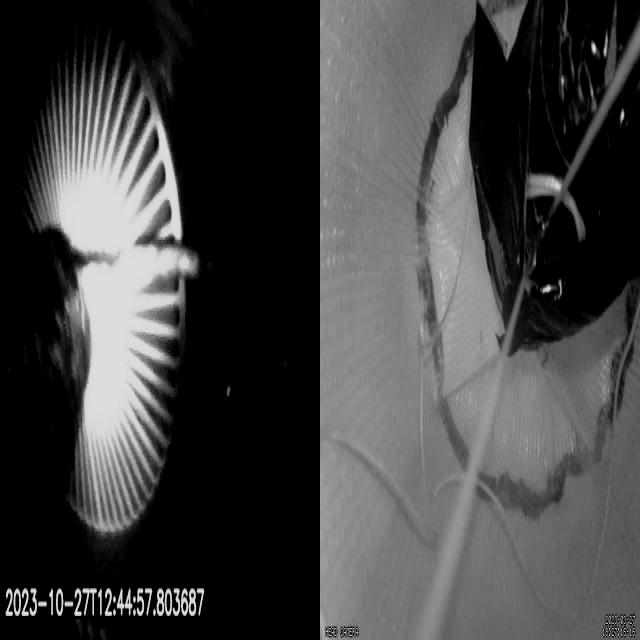red-circle: (415, 0, 640, 520)
